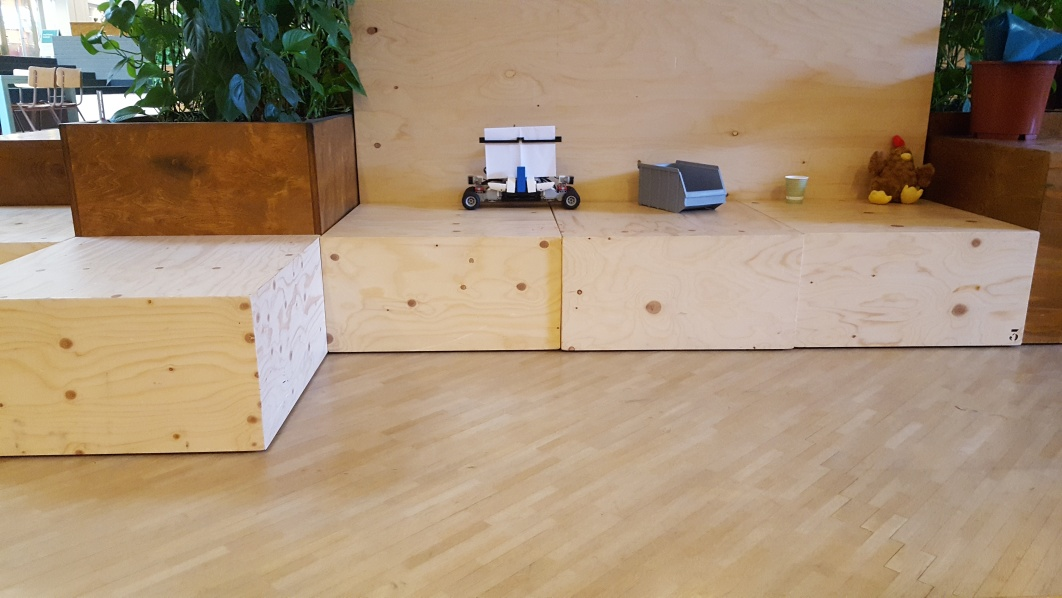car: (462, 126, 581, 212)
chicken: (867, 135, 934, 206)
cup: (782, 175, 810, 205)
tray: (633, 157, 730, 212)
